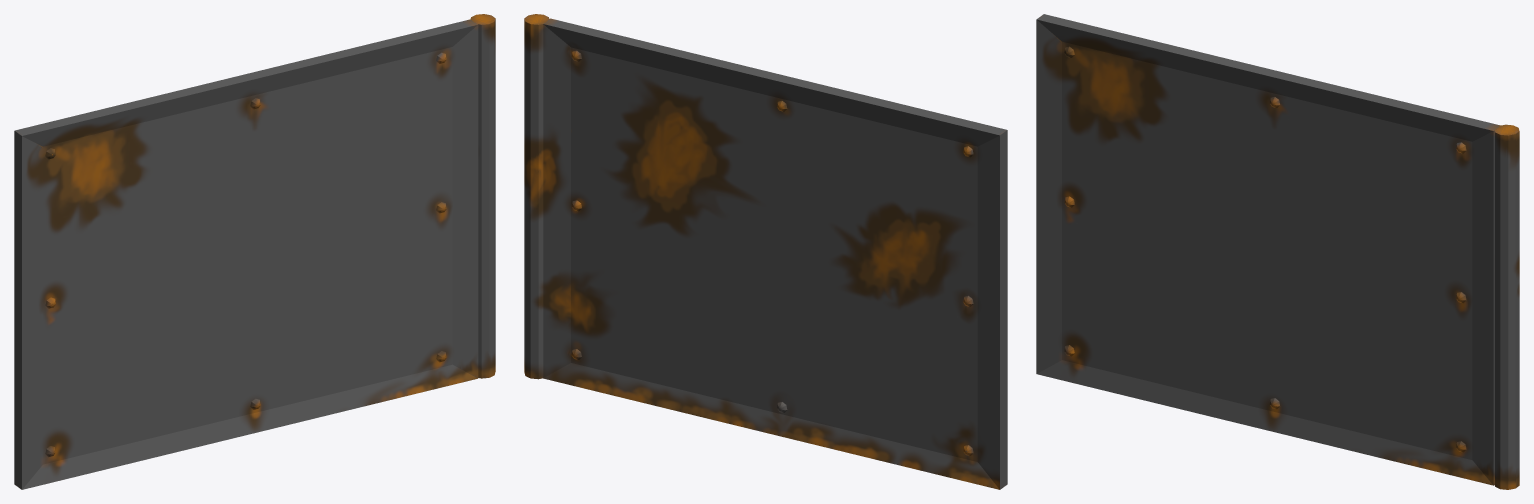
File: Metal_blocker.fbx
3 renders of one model, left to right at view 1: azimuth 30°, elevation 25°; view 2: azimuth 150°, elevation 25°; view 3: azimuth 330°, elevation 25°, orthographic.
Visible parts, largest first — view 1: Cube; view 2: Cube; view 3: Cube.
Boxes of the visible parts, bbox=[...] form: Cube: bbox=[14, 14, 495, 489]; Cube: bbox=[524, 14, 1007, 489]; Cube: bbox=[1036, 14, 1519, 489].
Bounding box in the file's own units: 498 × 354 × 23.43.
Materials: 1 (1 with a texture image).
